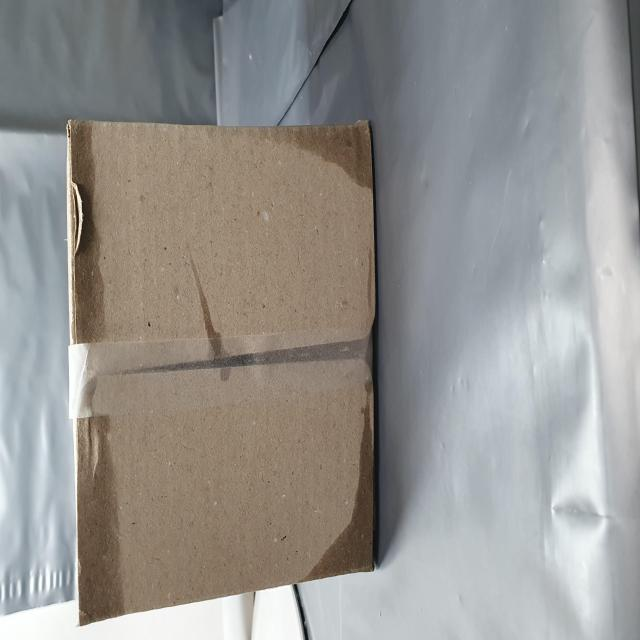wet: (10, 128, 289, 215), (30, 537, 139, 640), (256, 470, 291, 640)
